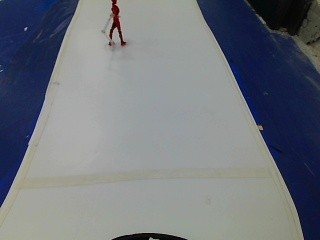pedestrian: (95, 0, 136, 50)
